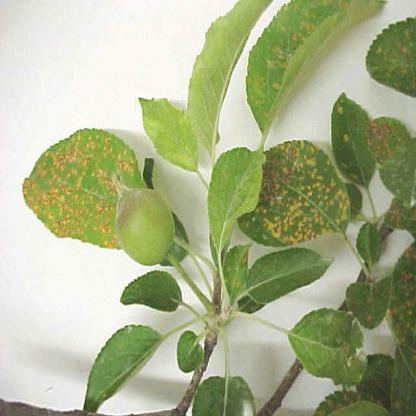Apple rust leaf: (221, 2, 392, 152), (16, 120, 154, 256), (252, 133, 358, 247), (324, 86, 411, 212), (338, 264, 391, 338)
